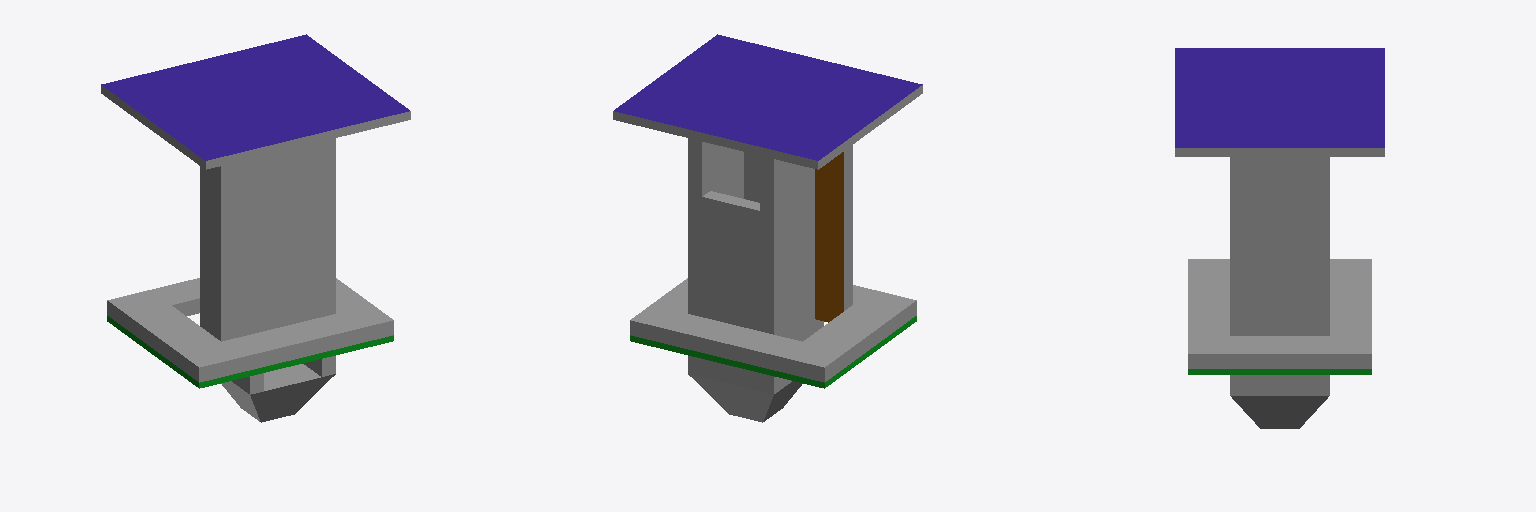
File: tower01.obj
The picture shows the model from 3 angles: view 1: azimuth 30°, elevation 25°; view 2: azimuth 150°, elevation 25°; view 3: azimuth 270°, elevation 25°; orthographic projection.
Visible parts, largest first — view 1: Cube.034_Cube.012; view 2: Cube.034_Cube.012; view 3: Cube.034_Cube.012.
Boxes of the visible parts, x1=… form: Cube.034_Cube.012: x1=101, y1=34, x2=410, y2=422; Cube.034_Cube.012: x1=613, y1=34, x2=922, y2=422; Cube.034_Cube.012: x1=1175, y1=48, x2=1384, y2=428.
Bounding box in the file's own units: 286 × 421 × 252.